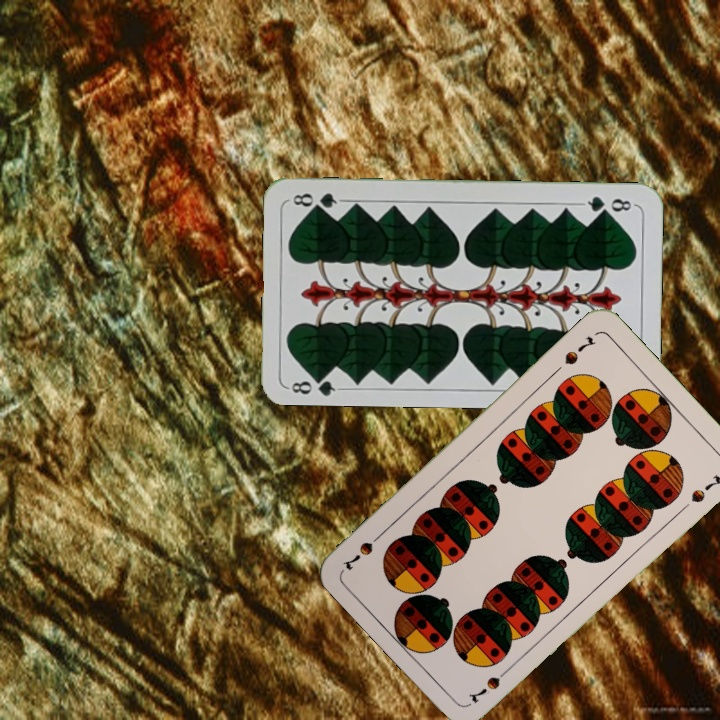G8: (285, 370, 344, 397), (578, 192, 637, 216)
S7: (464, 663, 514, 706), (560, 332, 599, 368)
